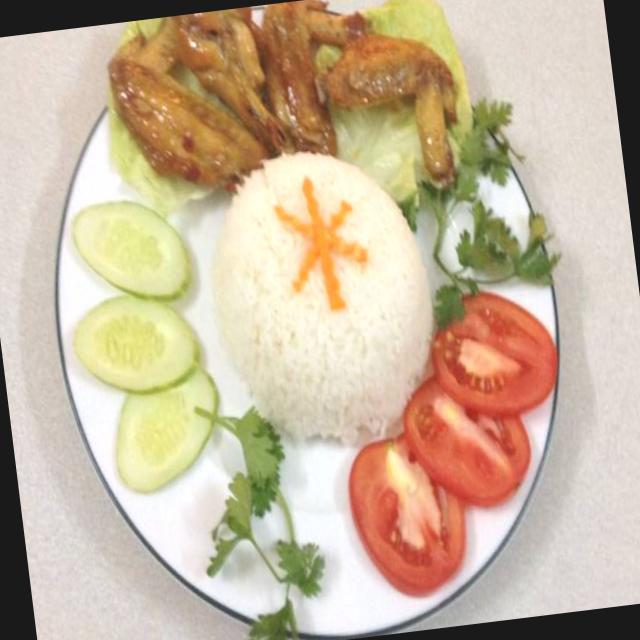ca chua: (348, 441, 464, 594), (402, 384, 529, 506), (432, 292, 556, 415)
com: (211, 153, 433, 445)
dua leo: (114, 369, 218, 490), (72, 294, 198, 392), (70, 200, 190, 298)
ga chien: (108, 0, 457, 185)
rau ngo: (400, 99, 559, 327), (195, 407, 324, 640)
